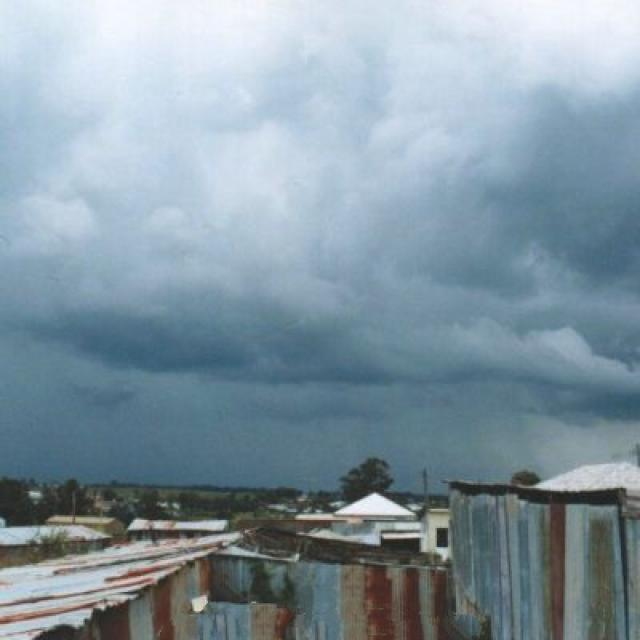Sc: (1, 24, 639, 432)
